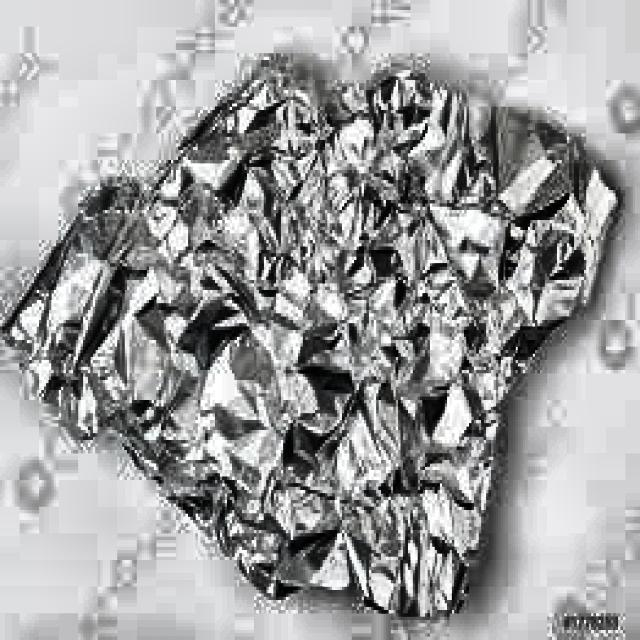Foil: (7, 43, 640, 630)
